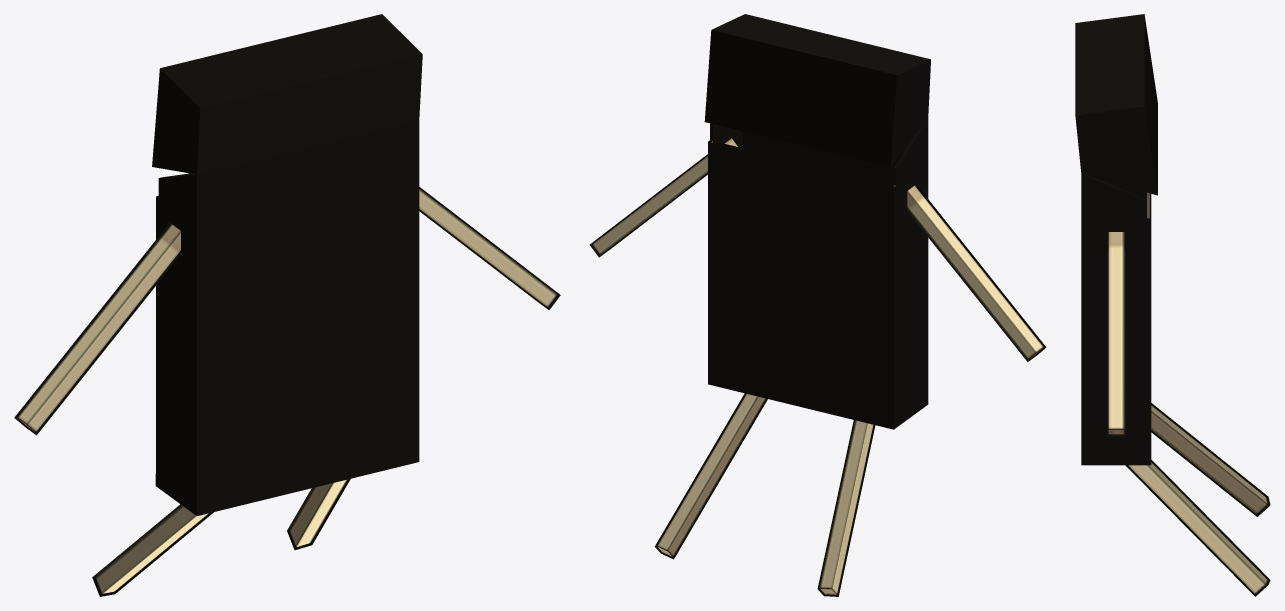
File: gash2.ico.obj
The picture shows the model from 3 angles, left to right: view 1: azimuth 30°, elevation 25°; view 2: azimuth 150°, elevation 25°; view 3: azimuth 270°, elevation 25°; orthographic projection. The views are drawn at different scales.
Bounding box in the file's own units: 4.52 × 4.67 × 1.67.
1 material, 1 textured.
